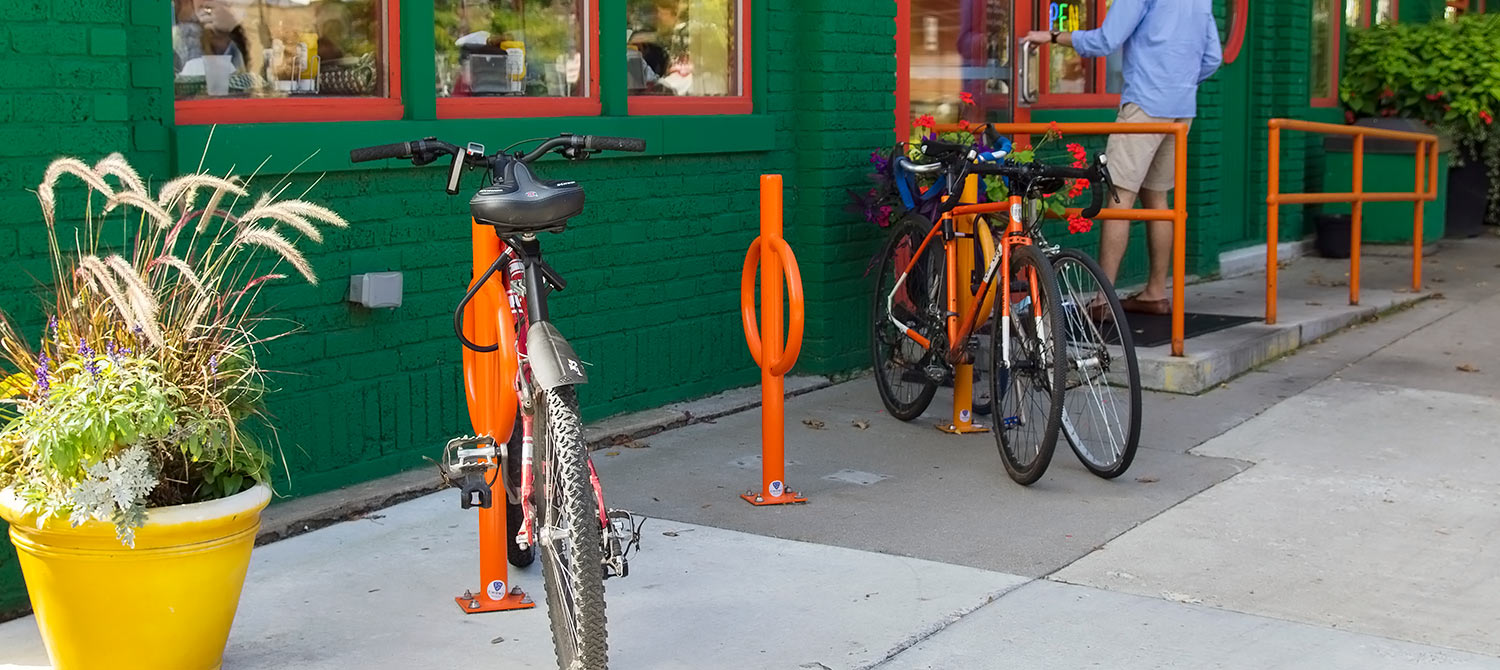bike: (333, 83, 748, 670)
